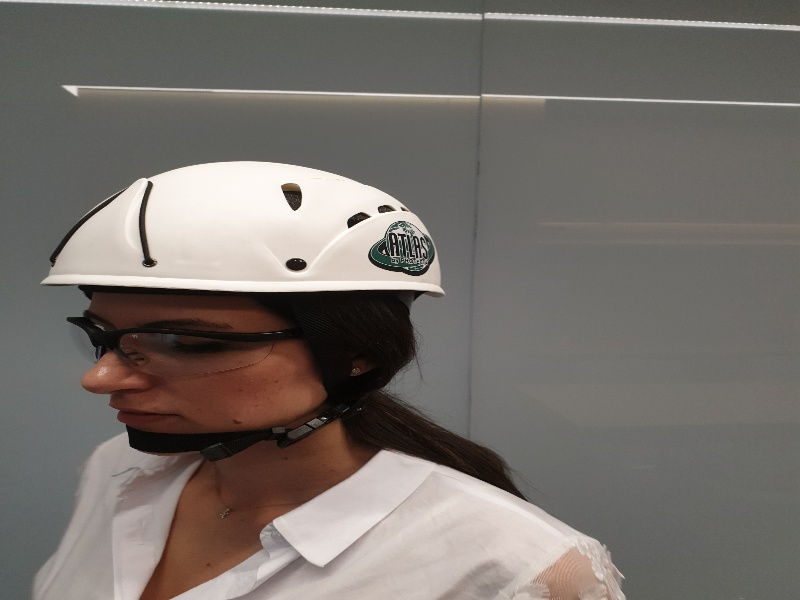Baret: (48, 161, 458, 303)
Gozluk: (59, 309, 322, 367)
